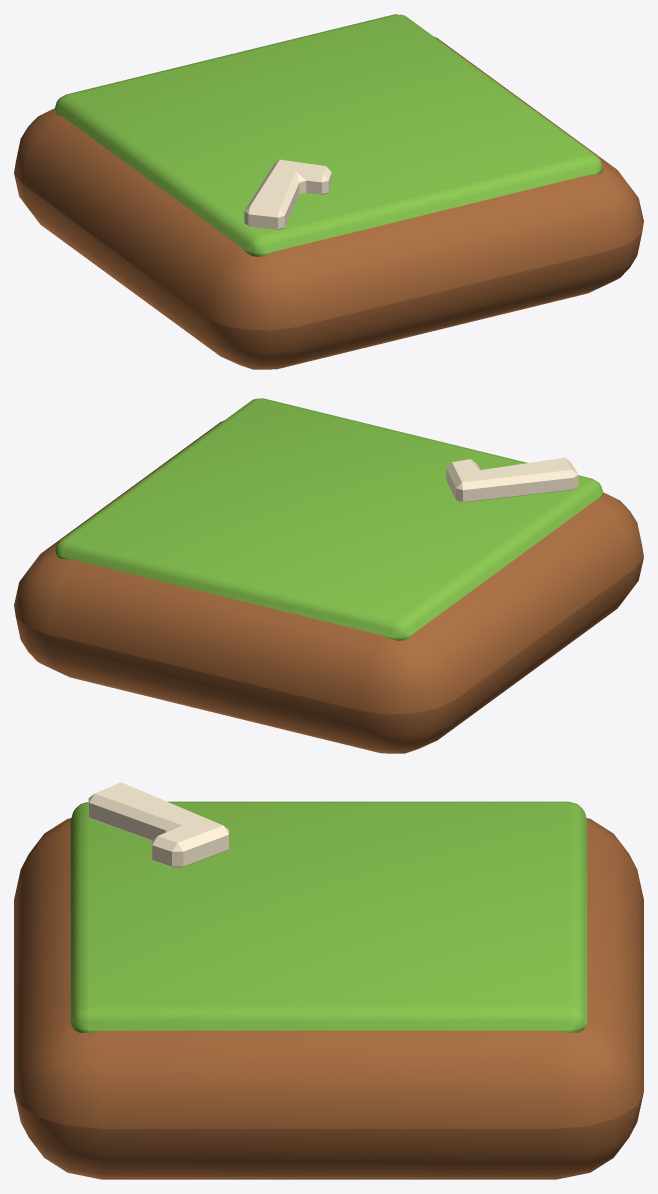
File: LevelTileDone.fbx
The picture shows the model from 3 angles, top to bottom: view 1: azimuth 30°, elevation 25°; view 2: azimuth 150°, elevation 25°; view 3: azimuth 270°, elevation 25°; orthographic projection. The views are drawn at different scales.
Parts seen in each view (by area): view 1: LevelTileDone; view 2: LevelTileDone; view 3: LevelTileDone.
Boxes of the visible parts, bbox=[...] form: LevelTileDone: bbox=[14, 14, 643, 369]; LevelTileDone: bbox=[14, 398, 643, 753]; LevelTileDone: bbox=[14, 782, 643, 1179].
Bounding box in the file's own units: 1 × 0.34 × 1.
1 material, 1 textured.
